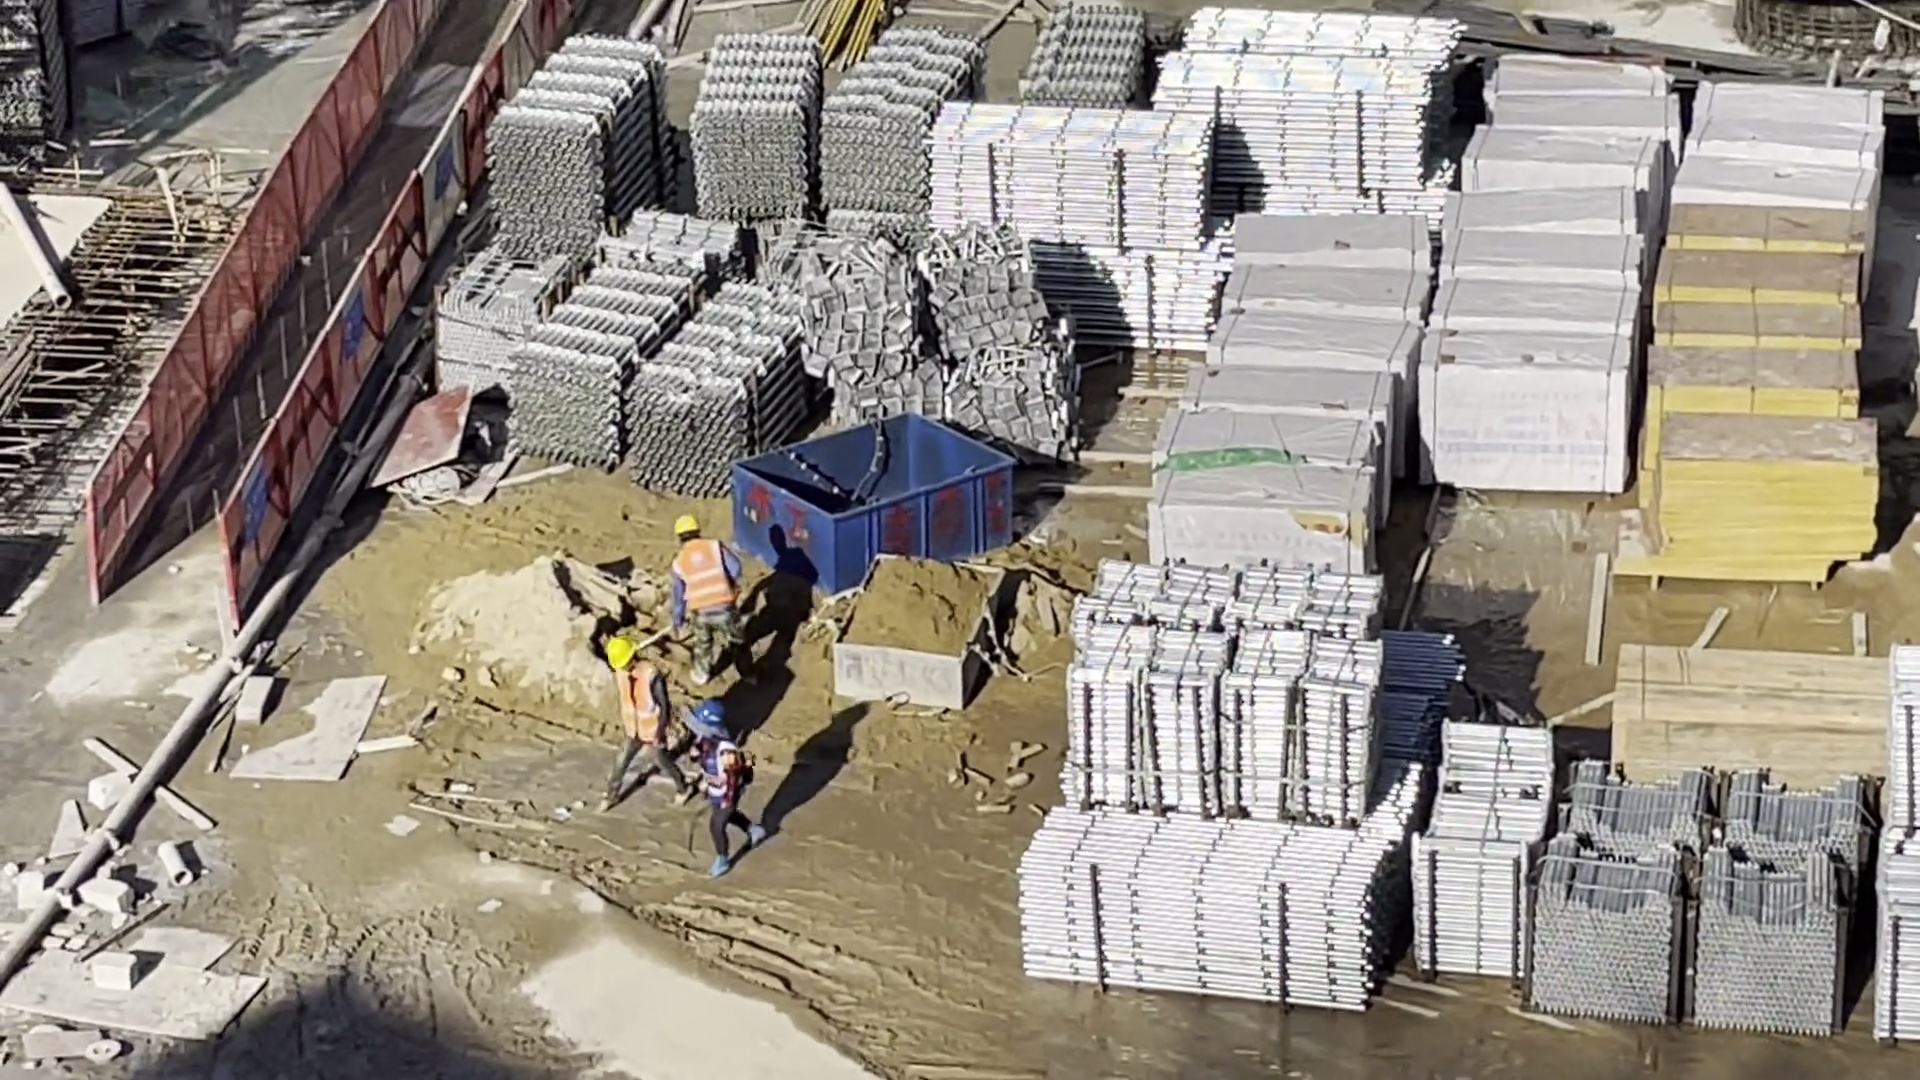board: (1646, 216, 1874, 587), (1624, 642, 1881, 779)
fence: (82, 11, 570, 585)
helmet: (606, 638, 637, 668), (696, 702, 725, 724), (672, 513, 699, 535)
hopper: (735, 416, 1015, 593), (832, 551, 1006, 708)
person: (665, 513, 763, 683), (605, 637, 689, 823), (685, 704, 766, 877)
scaffold: (1521, 758, 1848, 1030), (1069, 565, 1379, 822), (1021, 812, 1400, 1011), (931, 106, 1220, 339), (519, 265, 805, 476), (689, 34, 974, 215), (1159, 14, 1450, 184), (490, 41, 666, 247), (1405, 727, 1547, 973), (1878, 645, 1920, 1020), (1028, 7, 1142, 106)
slogan: (238, 460, 266, 543), (340, 284, 362, 356)
vest: (677, 546, 732, 612), (613, 669, 662, 742)
